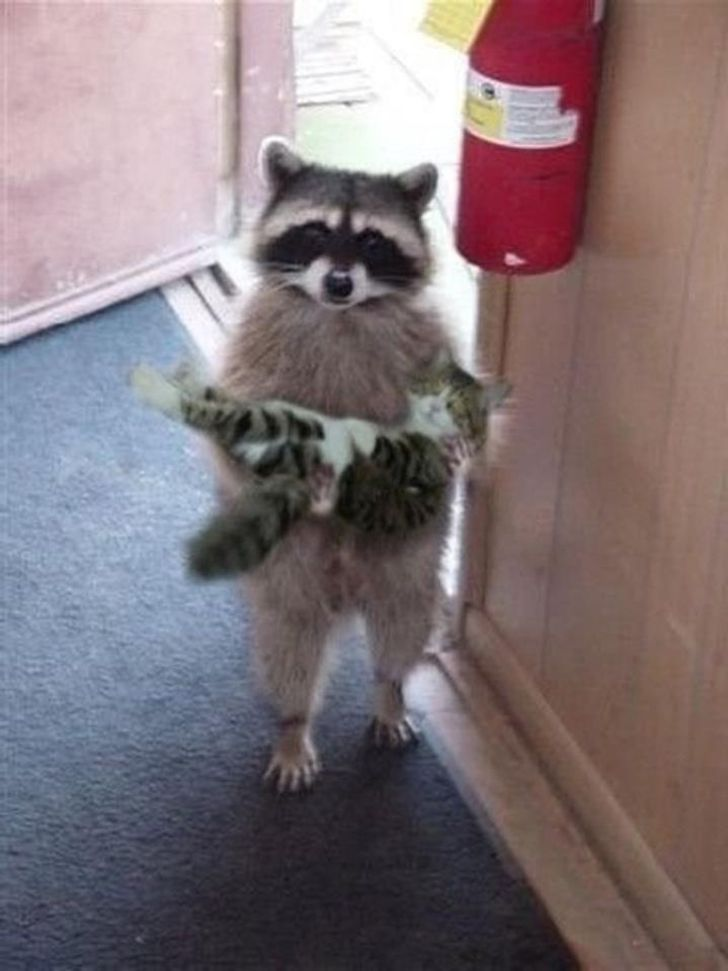raccoon: (255, 129, 431, 766)
